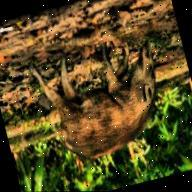boar: (15, 20, 190, 180)
